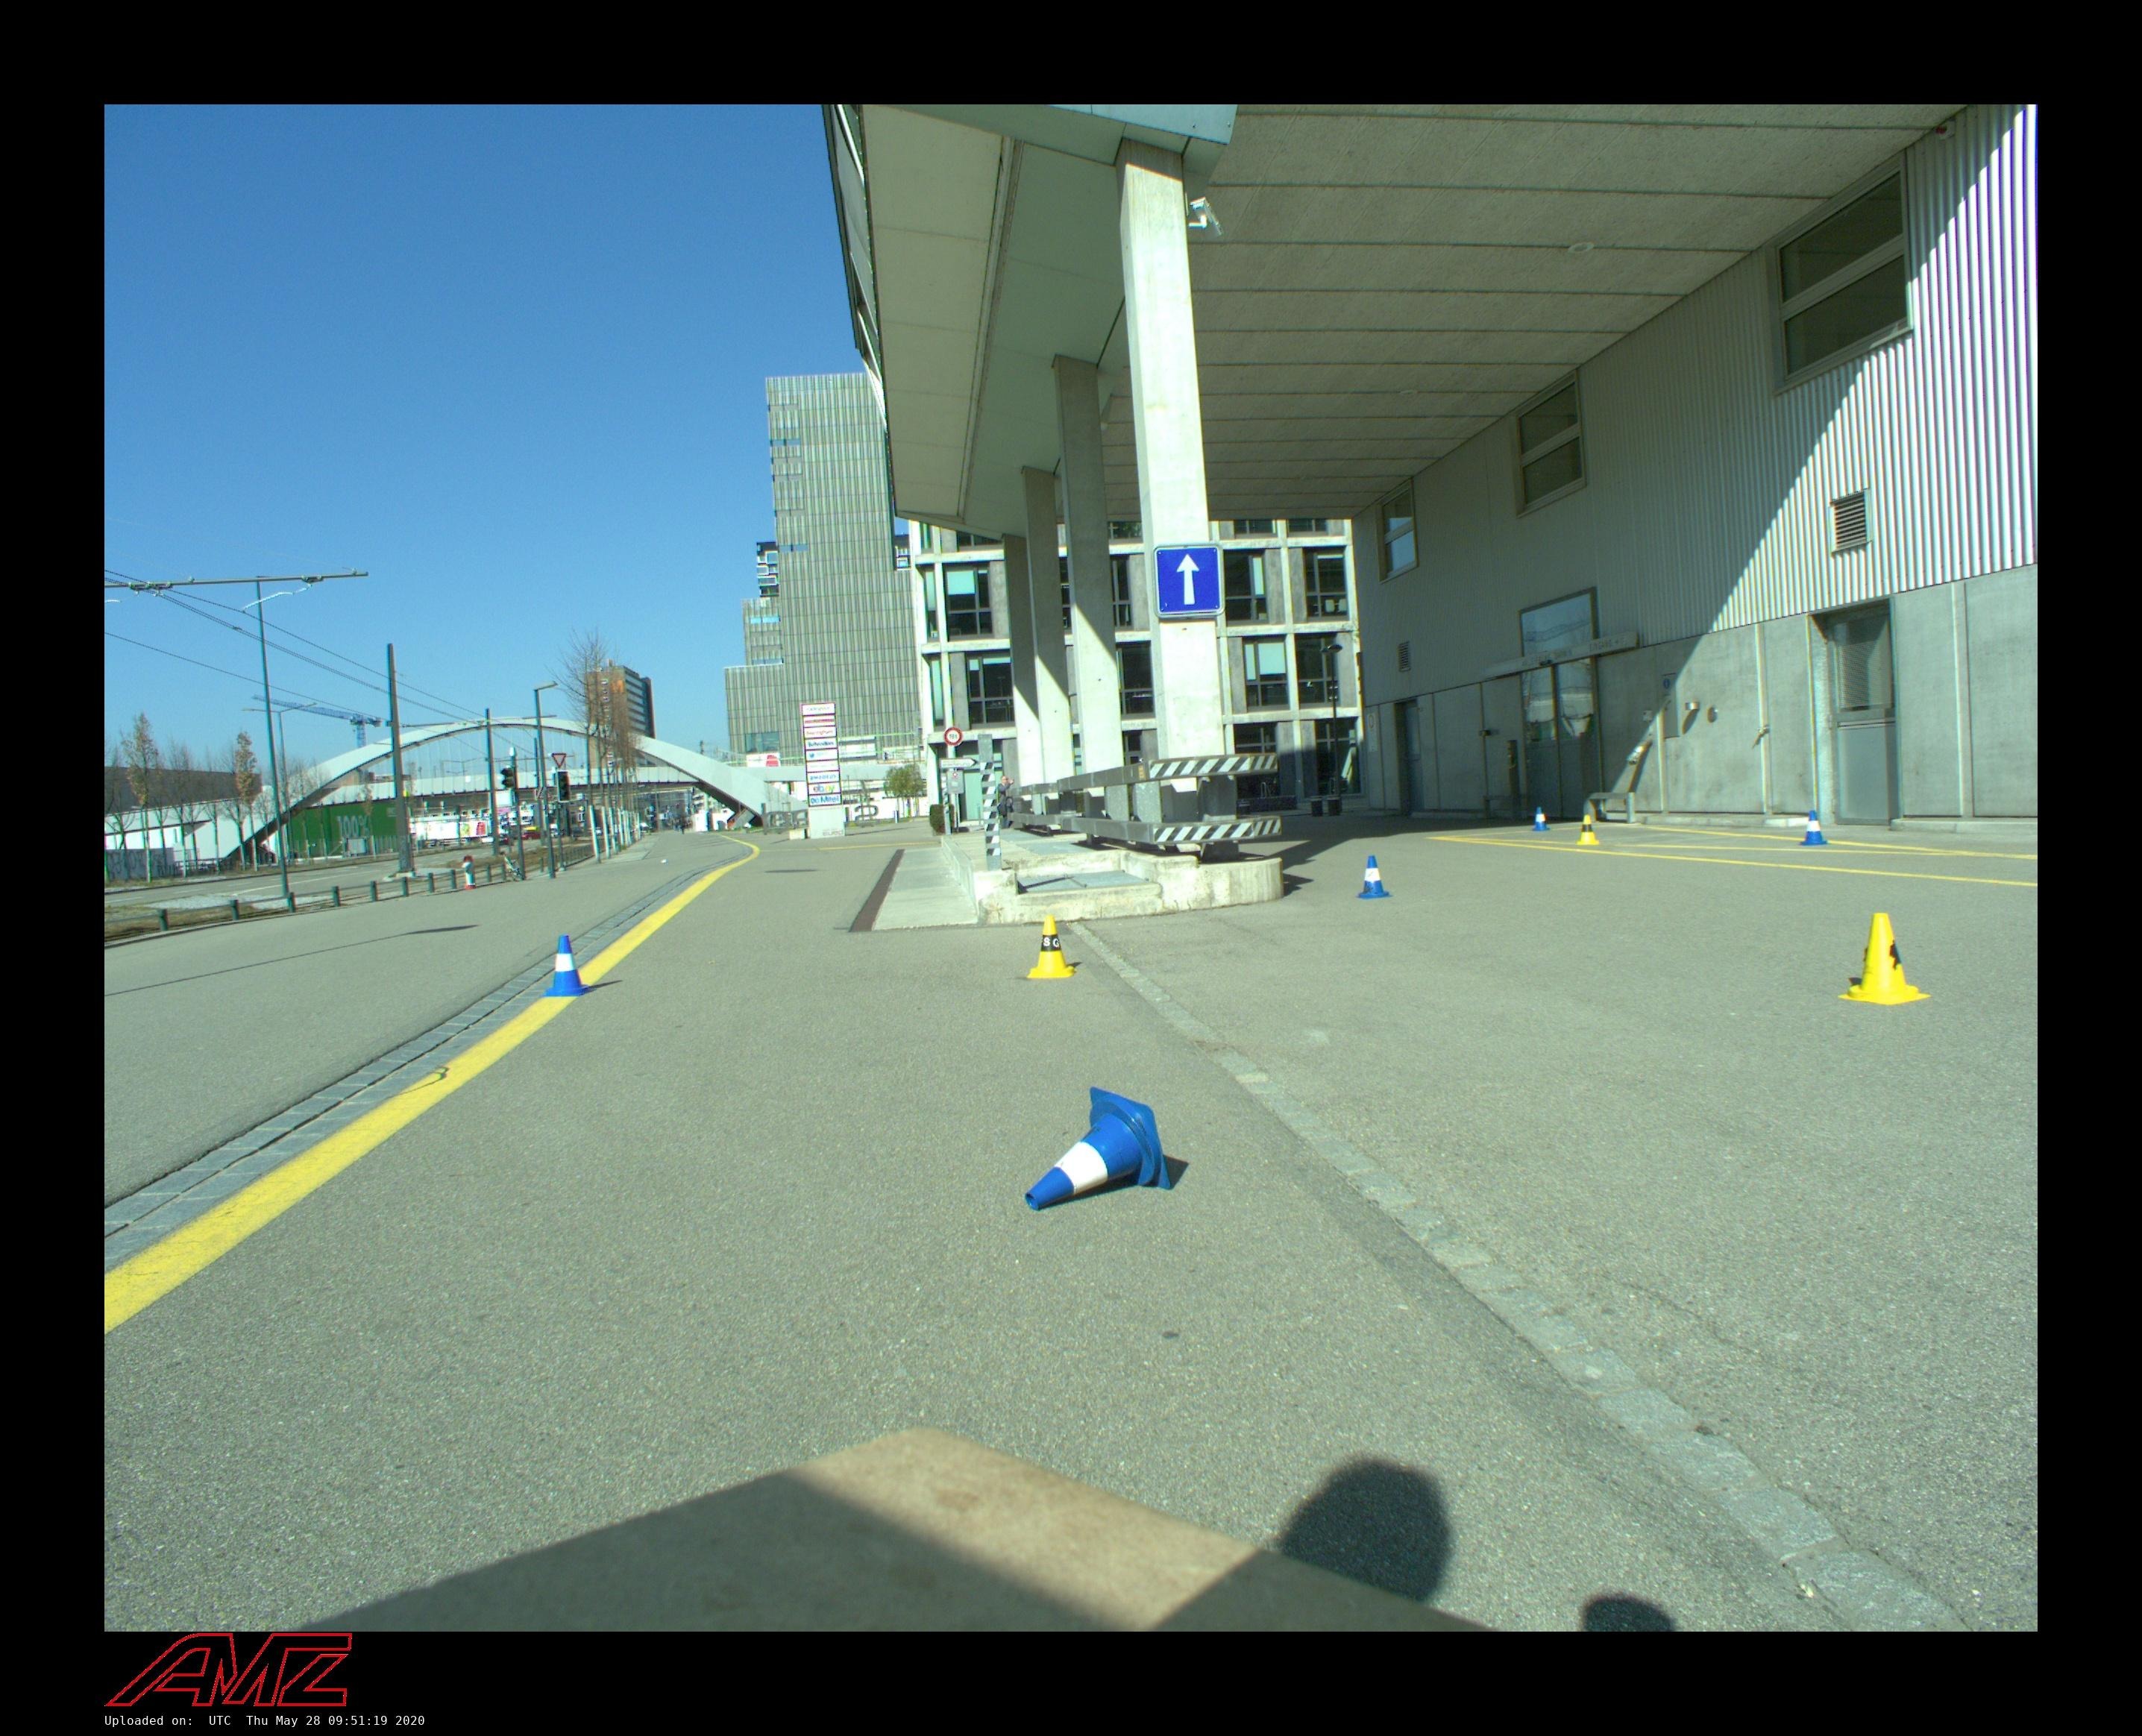blue_cone: (1024, 1086, 1171, 1212), (542, 935, 597, 996), (1355, 856, 1394, 900), (1798, 811, 1830, 845), (1529, 806, 1550, 831)
yellow_cone: (1837, 914, 1931, 1004), (1026, 916, 1077, 978), (1575, 815, 1600, 845)
